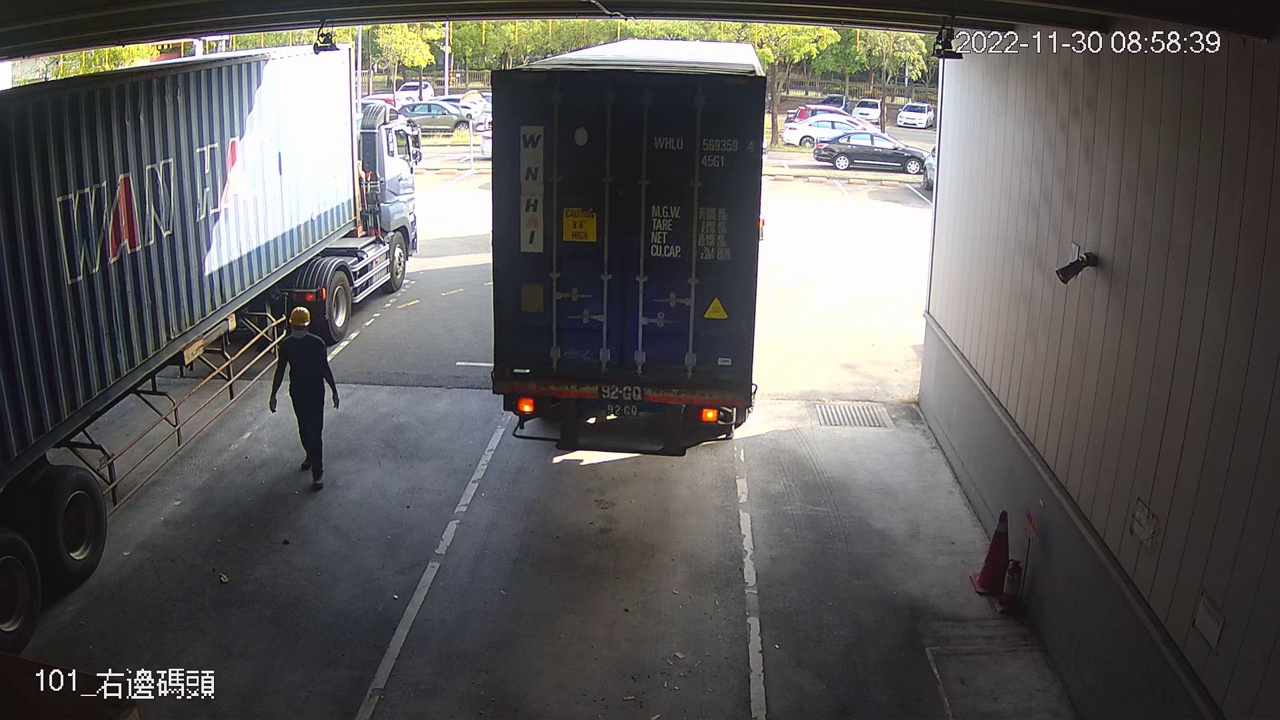container: (649, 131, 757, 173)
